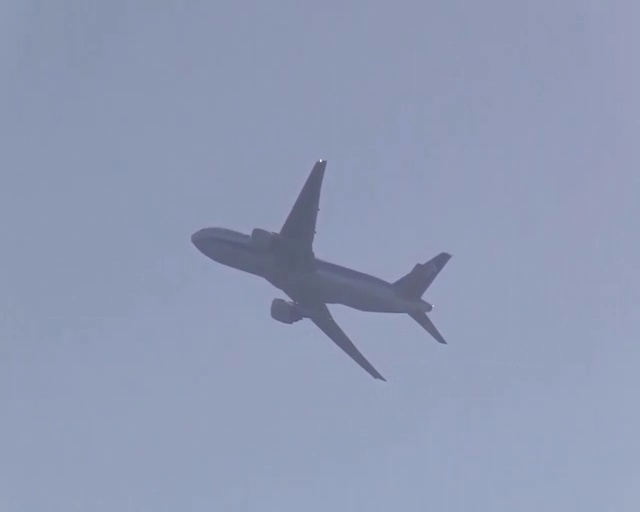AIRPLANE: (190, 156, 452, 389)
